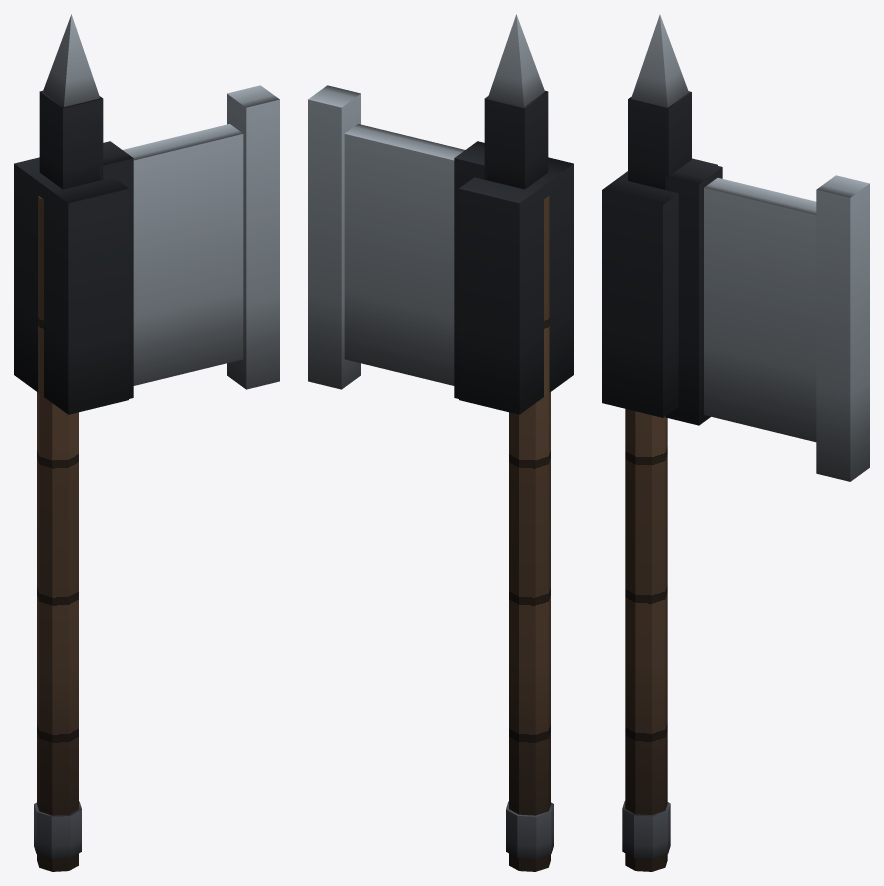
Rendered from axe.gltf.
The picture shows the model from 3 angles, left to right: view 1: azimuth 30°, elevation 25°; view 2: azimuth 150°, elevation 25°; view 3: azimuth 330°, elevation 25°; orthographic projection.
Visible parts, largest first — view 1: axe; view 2: axe; view 3: axe.
Boxes of the visible parts, x1,y1,x2,y2 form: axe: [14, 14, 279, 871]; axe: [308, 14, 573, 871]; axe: [602, 14, 869, 871].
Bounding box in the file's own units: 0.347 × 1.2 × 0.14.
Materials: 1 (1 with a texture image).
